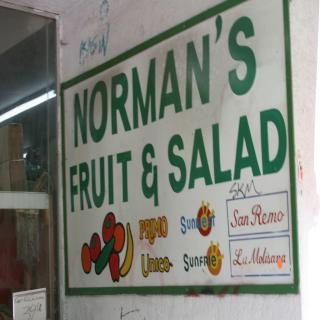tomato: (101, 210, 116, 244), (88, 233, 101, 261)
